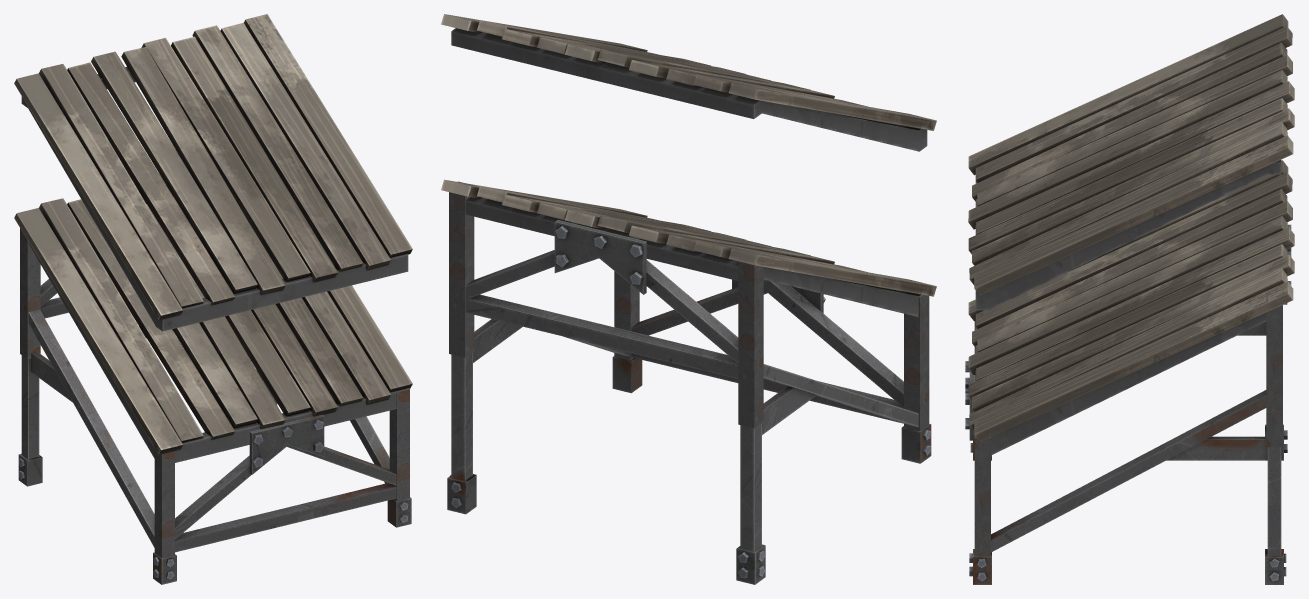
Rendered from WoodPlatform_Ramp2x2_Thin.glb.
3 renders of one model, left to right at view 1: azimuth 30°, elevation 25°; view 2: azimuth 150°, elevation 25°; view 3: azimuth 270°, elevation 25°, orthographic. The views are drawn at different scales.
Parts seen in each view (by area): view 1: WoodPlatform_Ramp2x2_Thin, offset, 2x2scaffold_Ramp, ScaleSupportBeam_Metal (2) (×3); view 2: 2x2scaffold_Ramp, WoodPlatform_Ramp2x2_Thin, offset, ScaleSupportBeam_Metal (2) (×4); view 3: WoodPlatform_Ramp2x2_Thin, offset, 2x2scaffold_Ramp, ScaleSupportBeam_Metal (2) (×2).
Part boxes in pixels (x1=…): WoodPlatform_Ramp2x2_Thin: x1=14, y1=14, x2=412, y2=331; offset: x1=14, y1=174, x2=412, y2=462; 2x2scaffold_Ramp: x1=18, y1=279, x2=411, y2=584; ScaleSupportBeam_Metal (2) (×3): x1=20, y1=228, x2=409, y2=558; 2x2scaffold_Ramp: x1=447, y1=220, x2=931, y2=584; WoodPlatform_Ramp2x2_Thin: x1=441, y1=14, x2=936, y2=151; offset: x1=441, y1=179, x2=936, y2=316; ScaleSupportBeam_Metal (2) (×4): x1=449, y1=181, x2=929, y2=431; WoodPlatform_Ramp2x2_Thin: x1=968, y1=14, x2=1294, y2=310; offset: x1=968, y1=160, x2=1294, y2=455; 2x2scaffold_Ramp: x1=965, y1=224, x2=1291, y2=584; ScaleSupportBeam_Metal (2) (×2): x1=974, y1=294, x2=1282, y2=556.
Size of the model in its own units: 1.98 by 3.01 by 2.04.
Materials: 3 (3 with a texture image).
